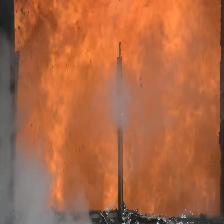fire: (13, 0, 222, 219)
